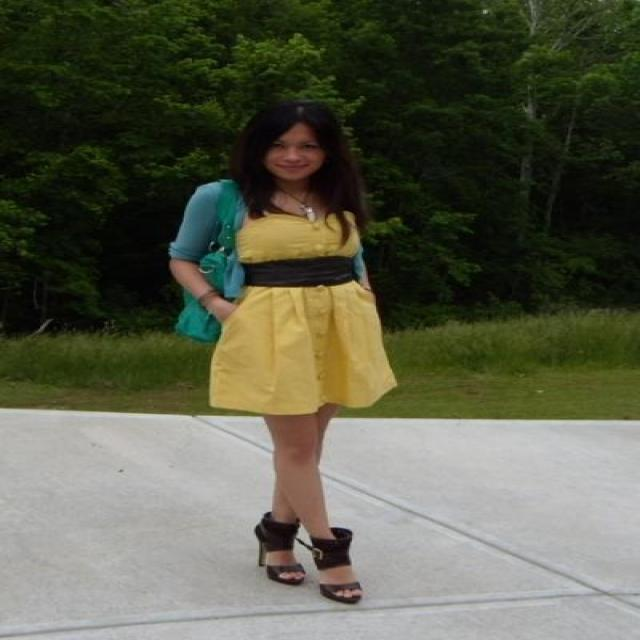bag: (174, 251, 245, 338)
jacket: (168, 179, 248, 265)
shoe: (254, 512, 360, 604)
skirt: (210, 212, 395, 414)
